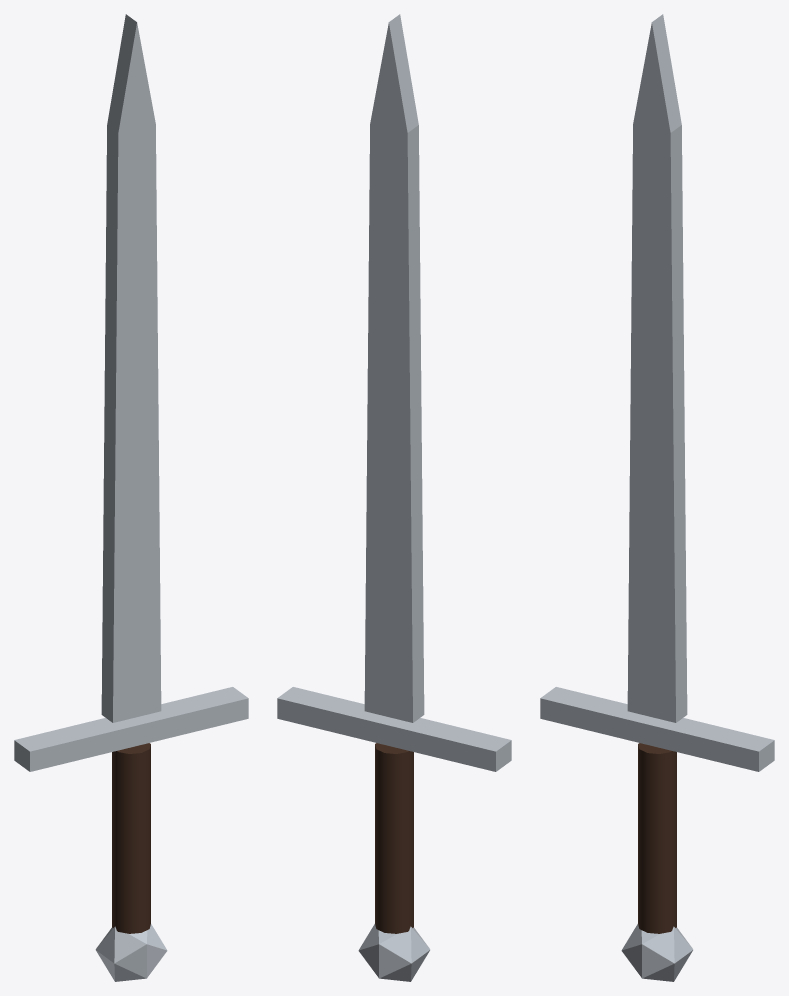
File: knight-sword.glb
3 renders of one model, left to right at view 1: azimuth 30°, elevation 25°; view 2: azimuth 150°, elevation 25°; view 3: azimuth 330°, elevation 25°, orthographic.
Visible parts, largest first — view 1: Blade, Crossguard, Grip, Pommel; view 2: Blade, Crossguard, Grip, Pommel; view 3: Blade, Crossguard, Grip, Pommel.
Boxes of the visible parts, <box> form: Blade: <box>101,14,161,722</box>; Crossguard: <box>14,687,248,771</box>; Grip: <box>112,743,150,933</box>; Pommel: <box>95,924,167,981</box>; Blade: <box>364,14,424,722</box>; Crossguard: <box>277,687,511,771</box>; Grip: <box>375,743,413,933</box>; Pommel: <box>358,924,430,981</box>; Blade: <box>627,14,687,722</box>; Crossguard: <box>540,687,774,771</box>; Grip: <box>638,743,676,933</box>; Pommel: <box>621,924,693,981</box>.
Bounding box in the file's own units: 0.28 × 1.17 × 0.0681.
